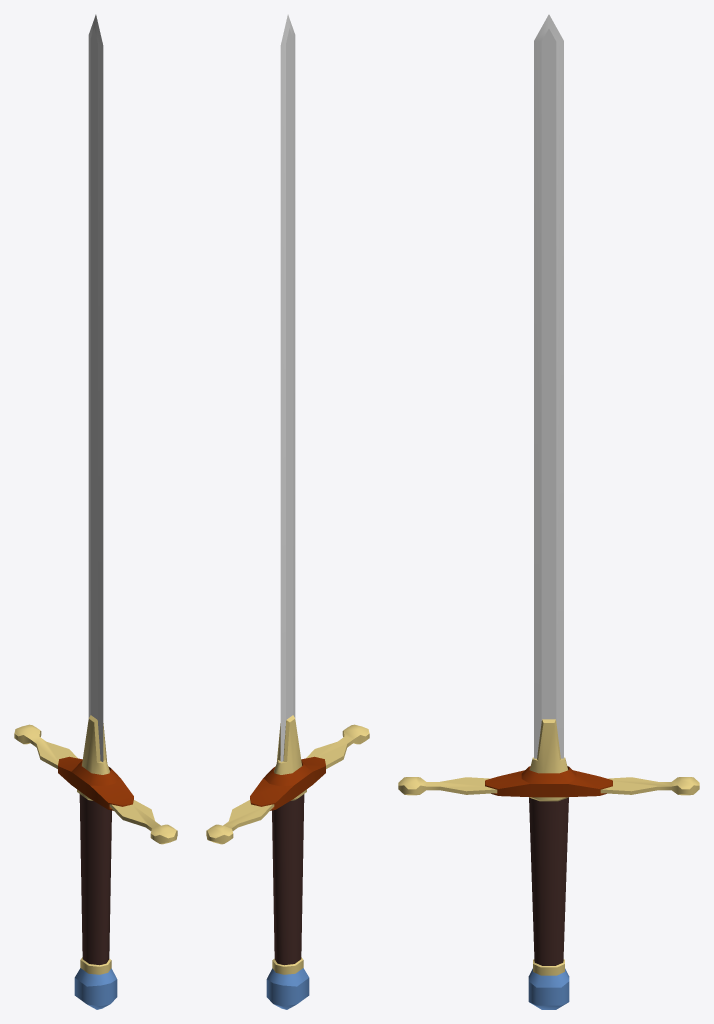
Rendered from Sword2 Rust MultiMaterial.fbx.
3 renders of one model, left to right at view 1: azimuth 30°, elevation 25°; view 2: azimuth 150°, elevation 25°; view 3: azimuth 270°, elevation 25°, orthographic.
Visible parts, largest first — view 1: Sword2 Rust MultiMaterial; view 2: Sword2 Rust MultiMaterial; view 3: Sword2 Rust MultiMaterial.
Boxes of the visible parts, box(x1,y1,x2,y2) form: Sword2 Rust MultiMaterial: box(14, 14, 177, 1009); Sword2 Rust MultiMaterial: box(206, 14, 369, 1009); Sword2 Rust MultiMaterial: box(398, 14, 699, 1009).
Bounding box in the file's own units: 26 × 806 × 221.
